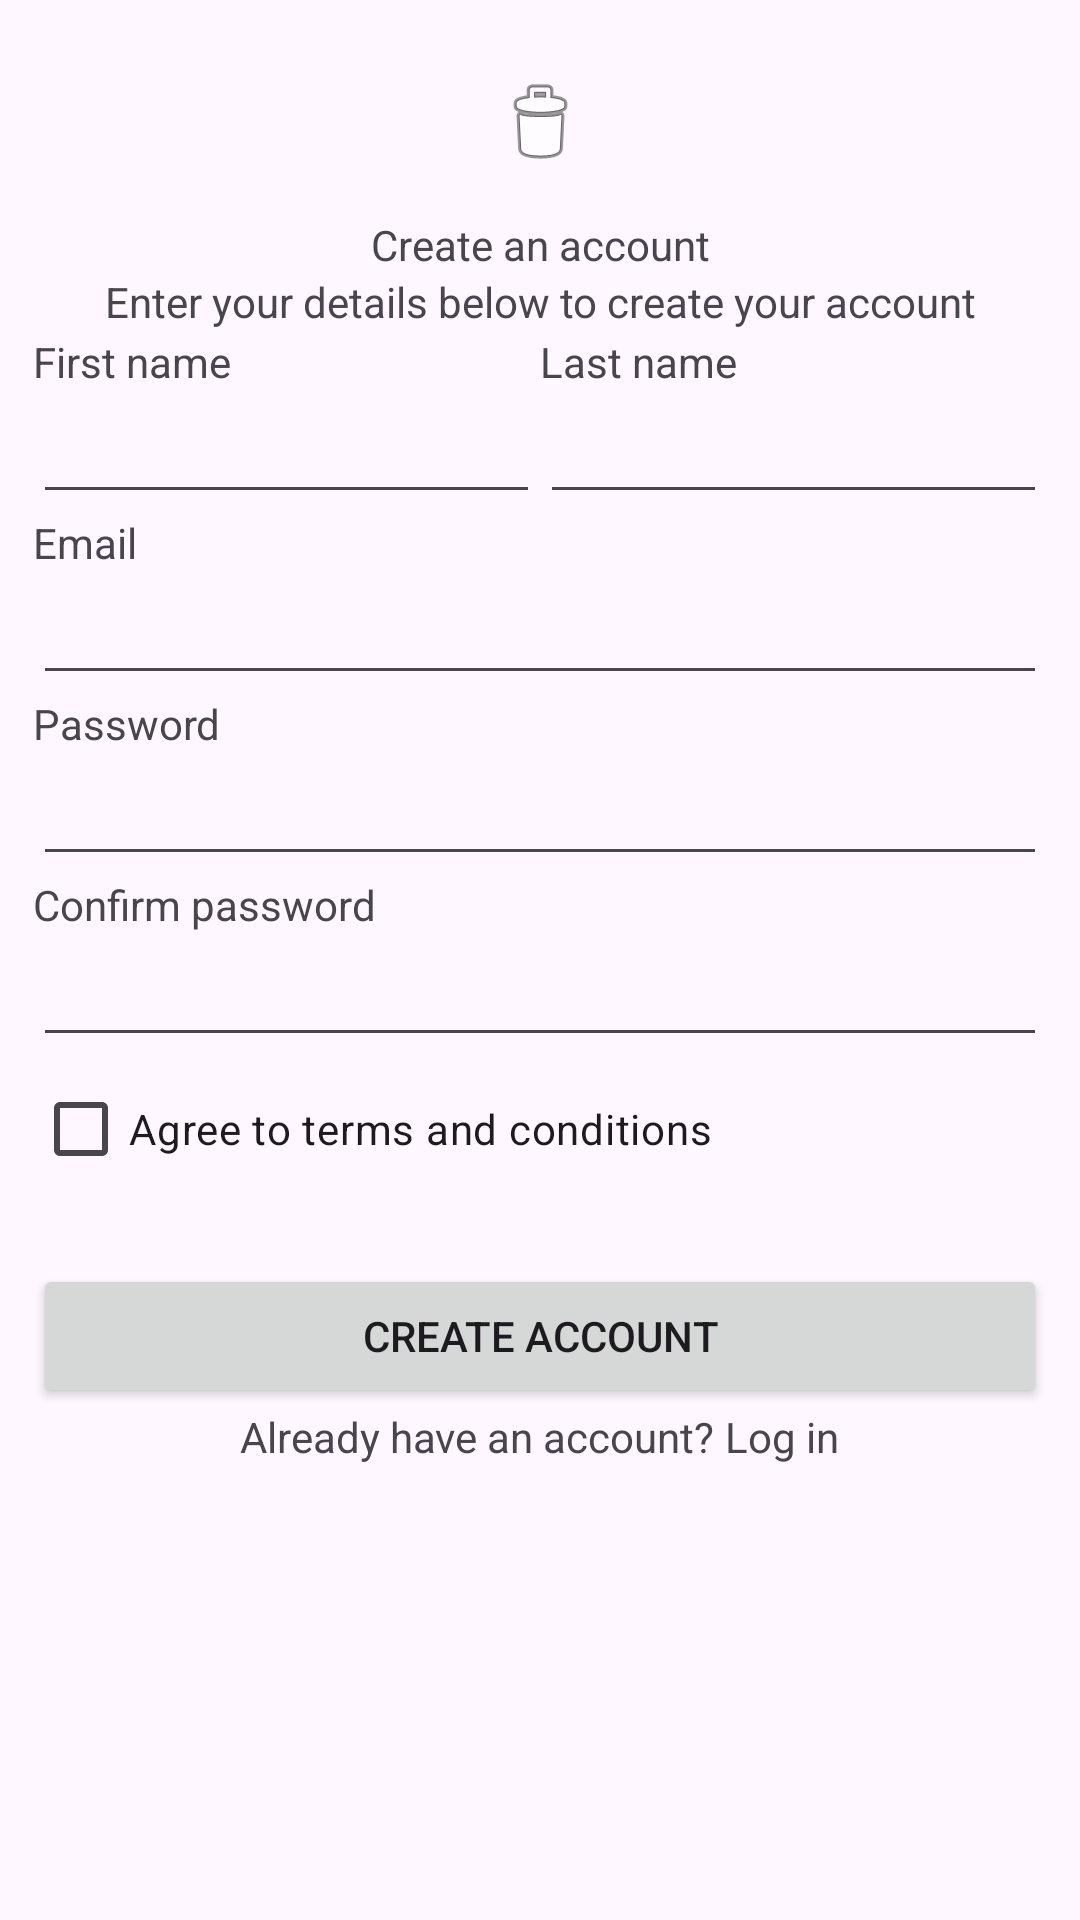

Icon bounding boxes for this 1080 × 1920 phone screenshot, format (x1, y1, x2, y2):
delete: (513, 84, 568, 159)
